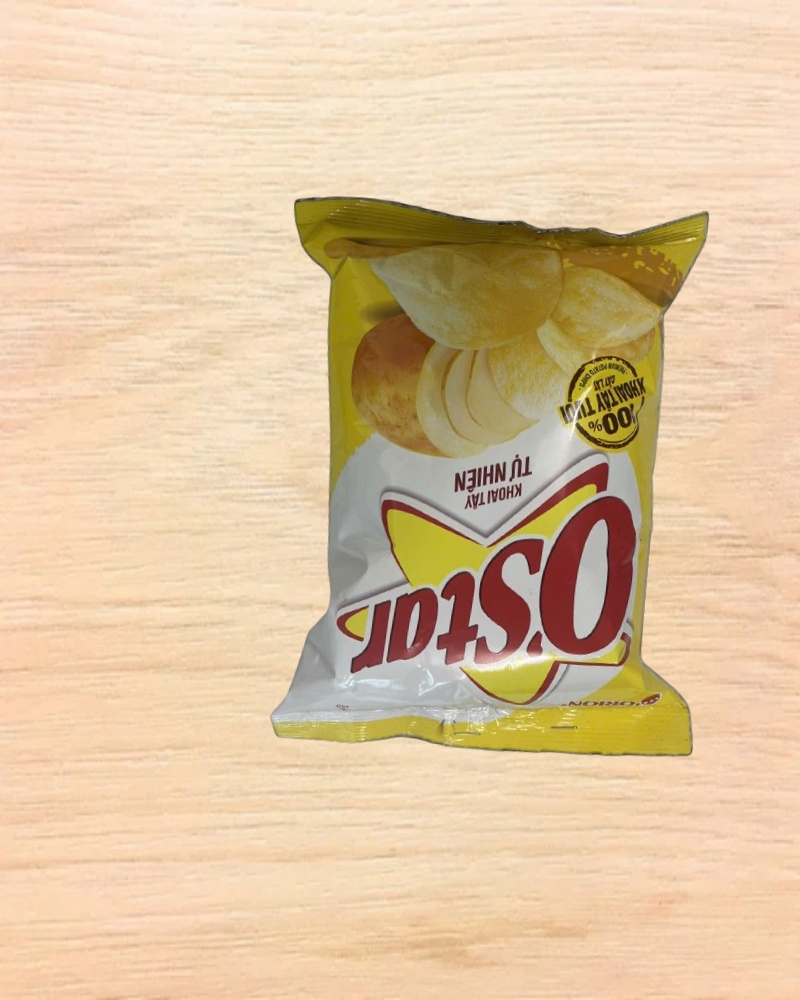Snack cua: (254, 183, 737, 767)
